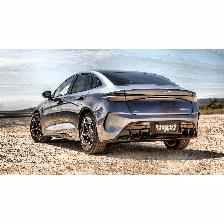EV: (32, 69, 201, 155)
